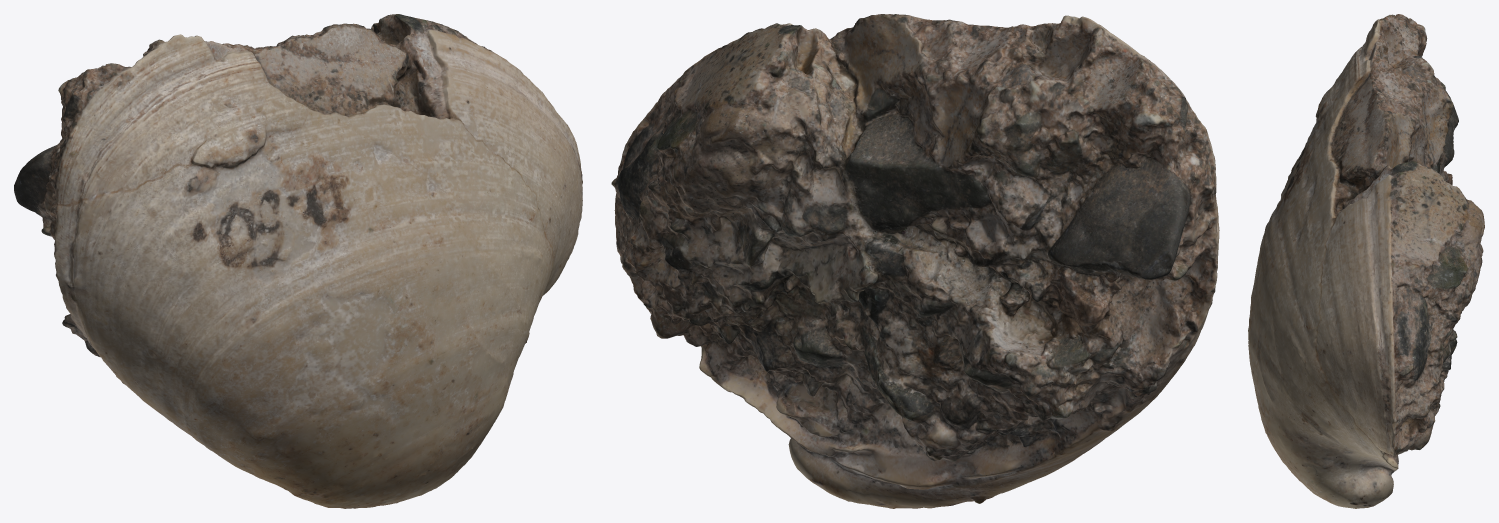
The model's file is EWS0014240.glb.
3 views of the same model, side by side, from view 1: azimuth 30°, elevation 25°; view 2: azimuth 150°, elevation 25°; view 3: azimuth 270°, elevation 25° (orthographic). The views are drawn at different scales.
Parts seen in each view (by area): view 1: input; view 2: input; view 3: input.
Boxes of the visible parts, left/top/right/bottom form: input: left=14, top=14, right=582, bottom=508; input: left=611, top=14, right=1219, bottom=508; input: left=1248, top=14, right=1484, bottom=508.
Size of the model in its own units: 0.0327 by 0.0289 by 0.0155.
1 material, 1 textured.
